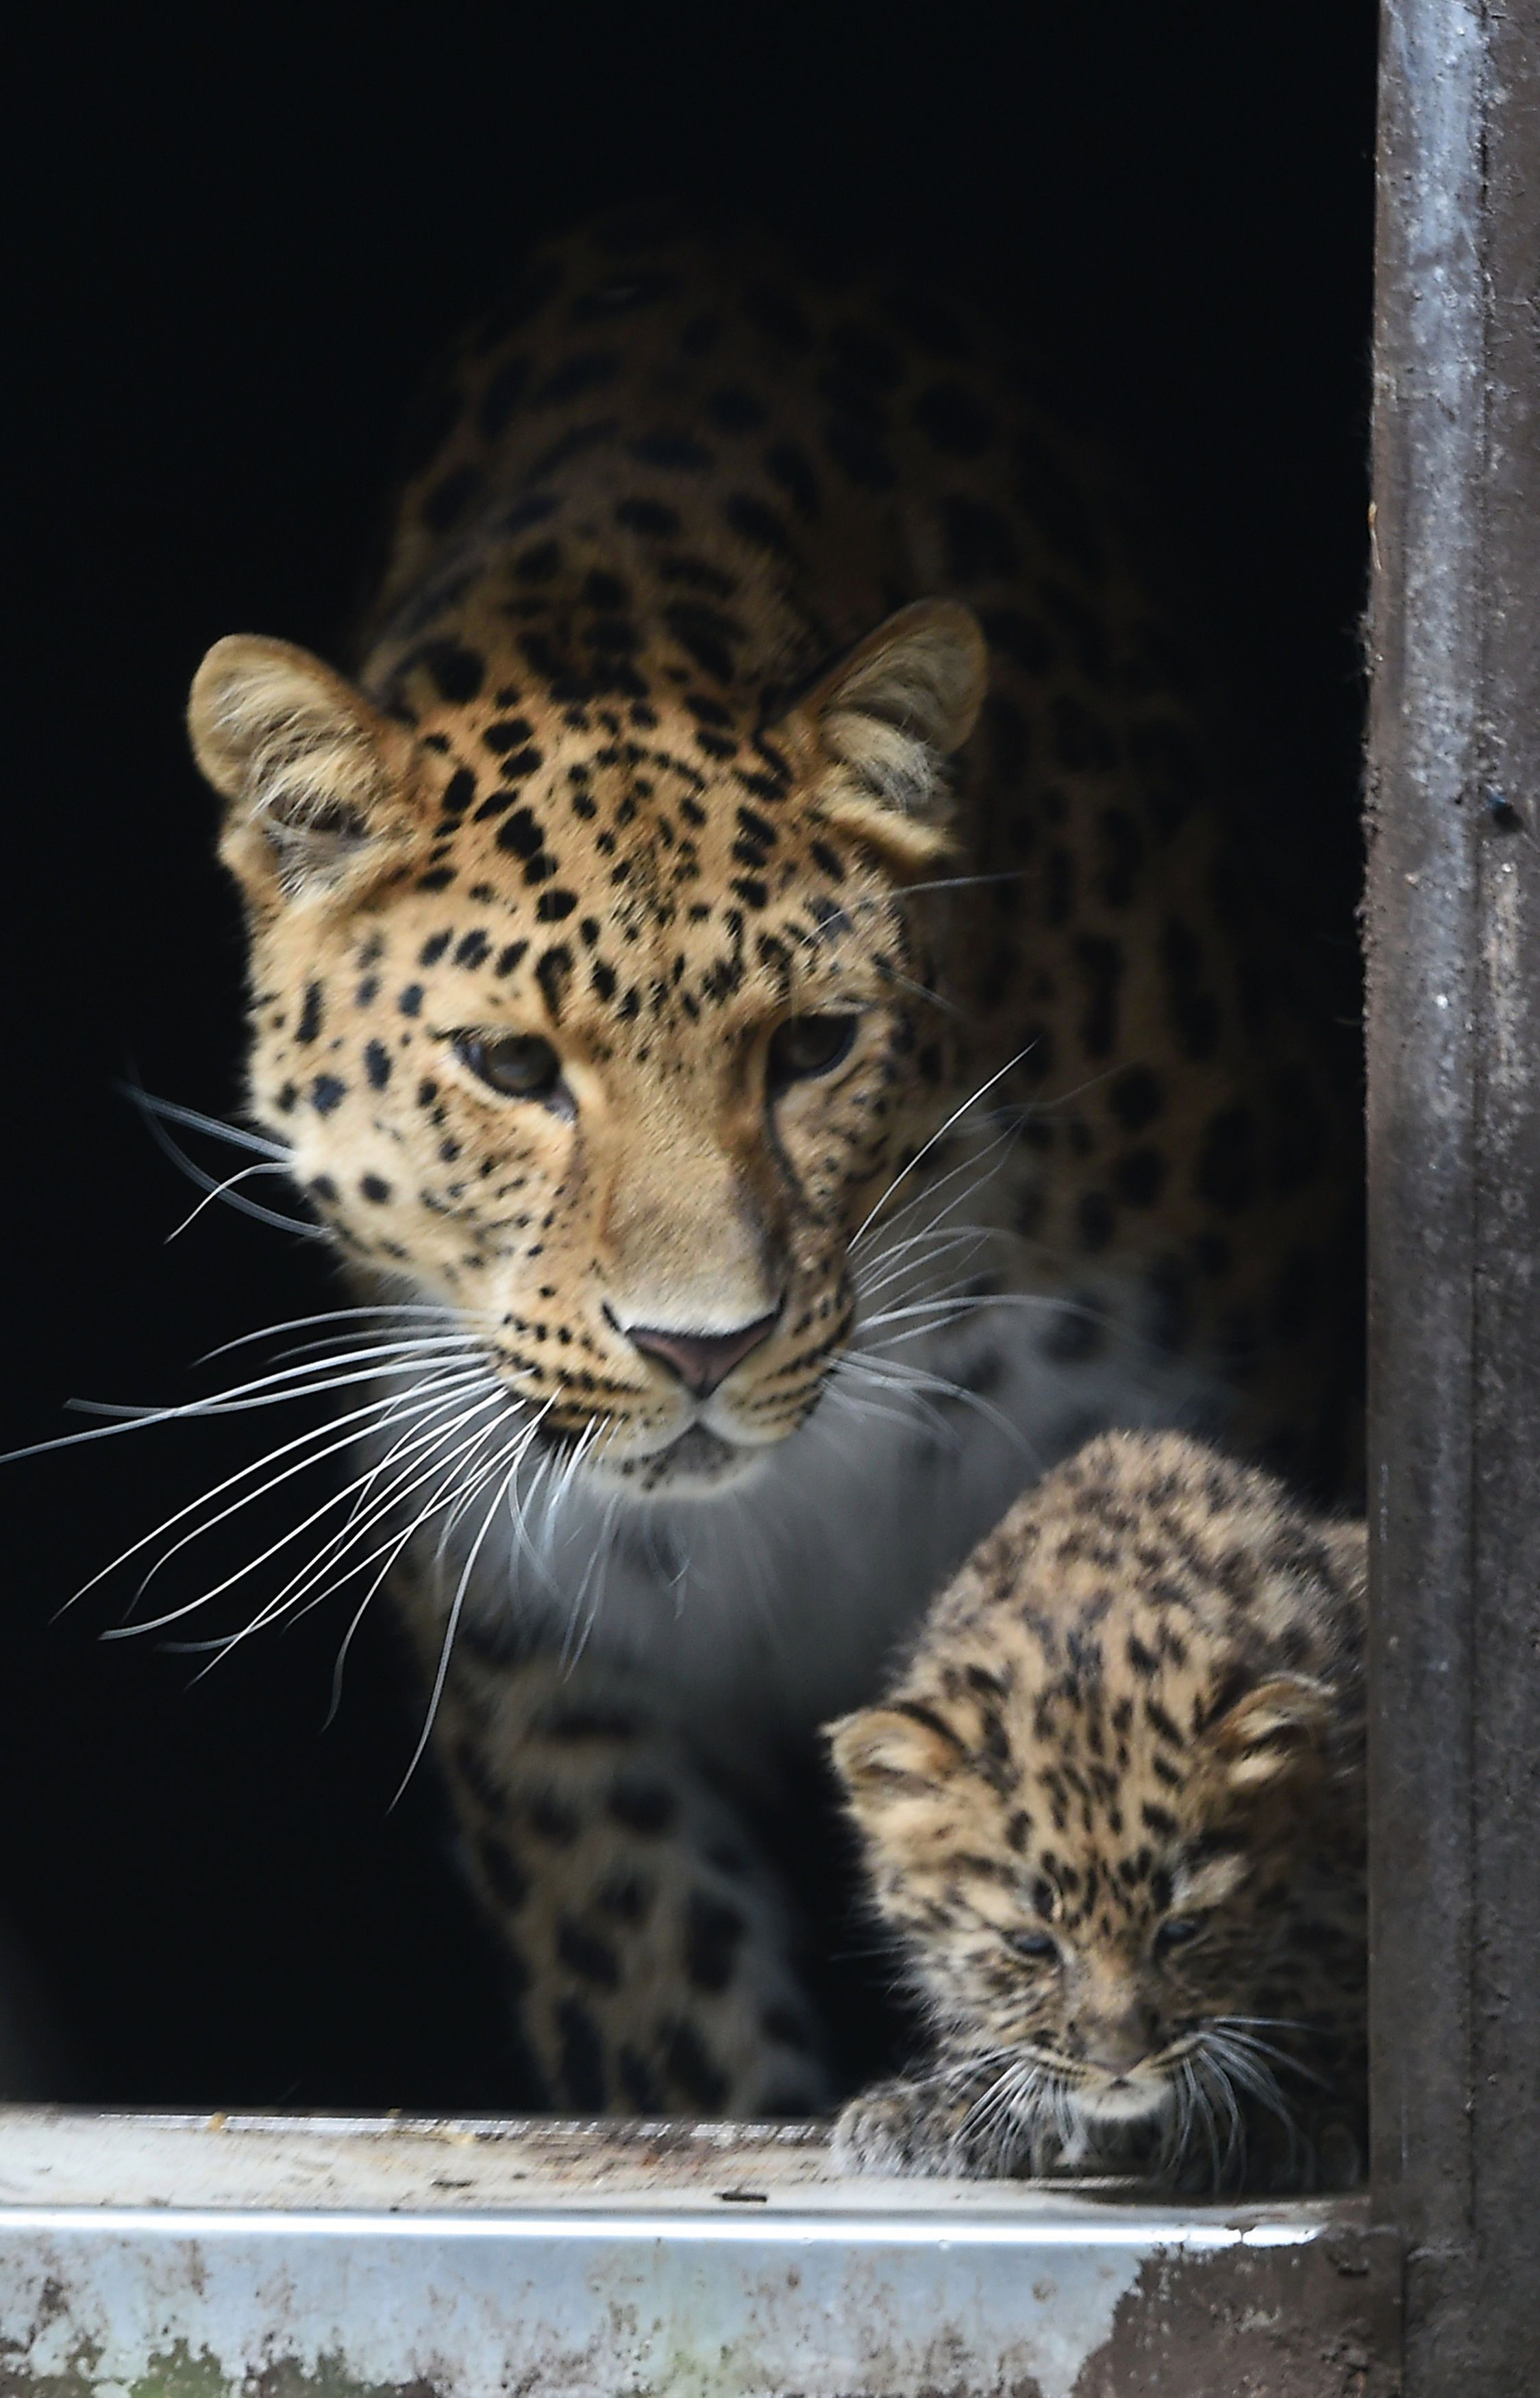amur_leopard: (128, 563, 1045, 1526), (794, 1451, 1365, 2185)
